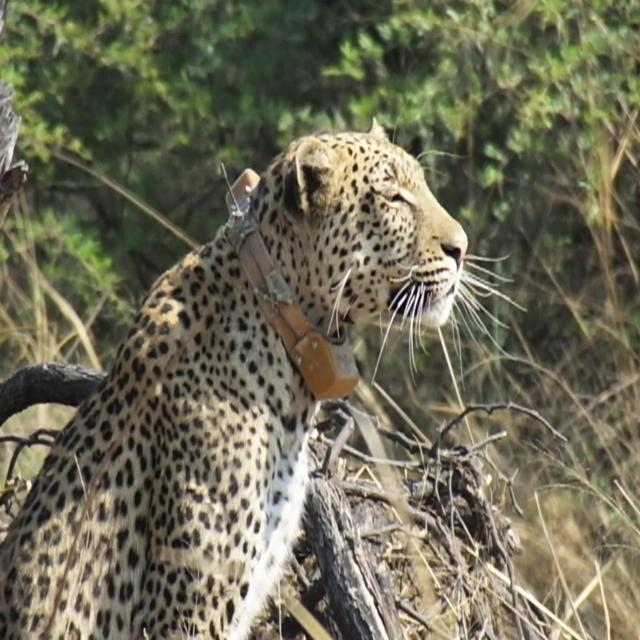Leopard: (4, 113, 472, 640)
